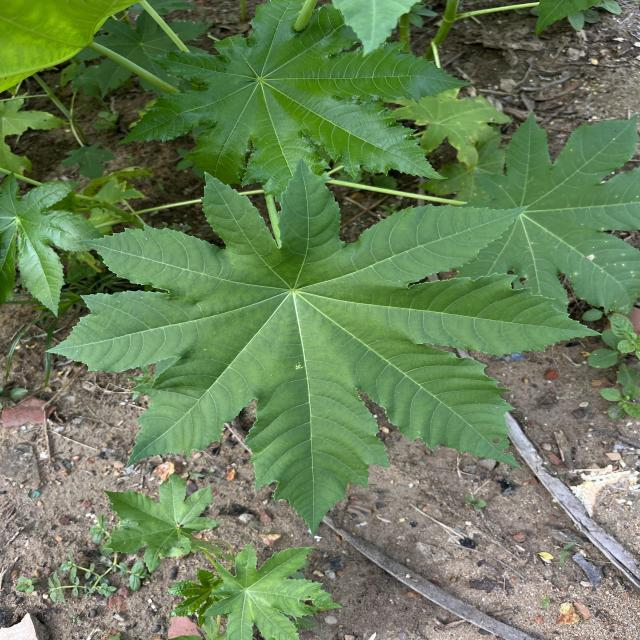Ricinus communis linn: (41, 152, 608, 540)
